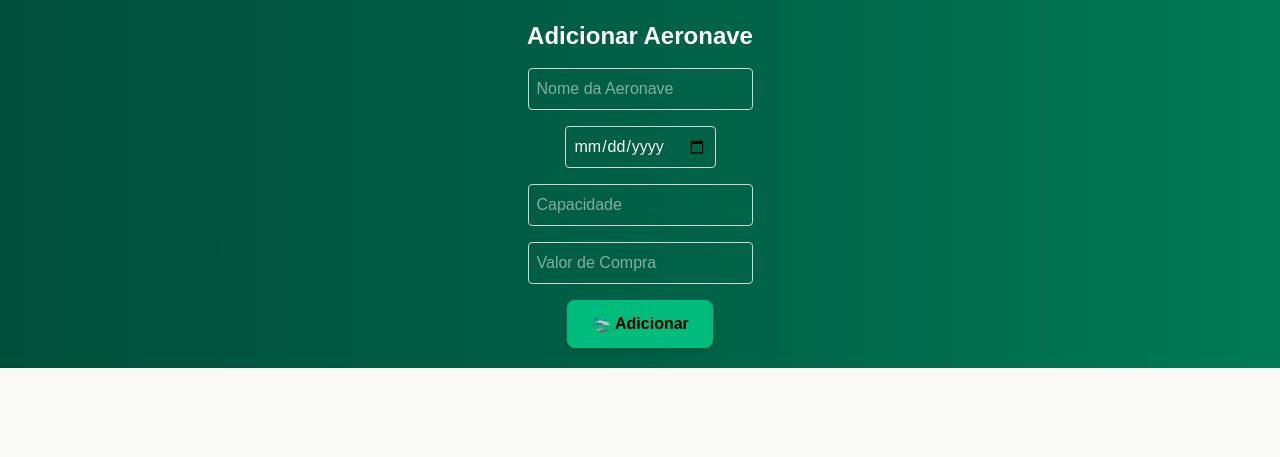
Scenario: Componente SignInAirplane › deve exibir mensagem de sucesso ao enviar formulário válido
Type "Boeing 737" into the field with placeholder "Nome da Aeronave" at [640, 89], box [528,68,752,110]
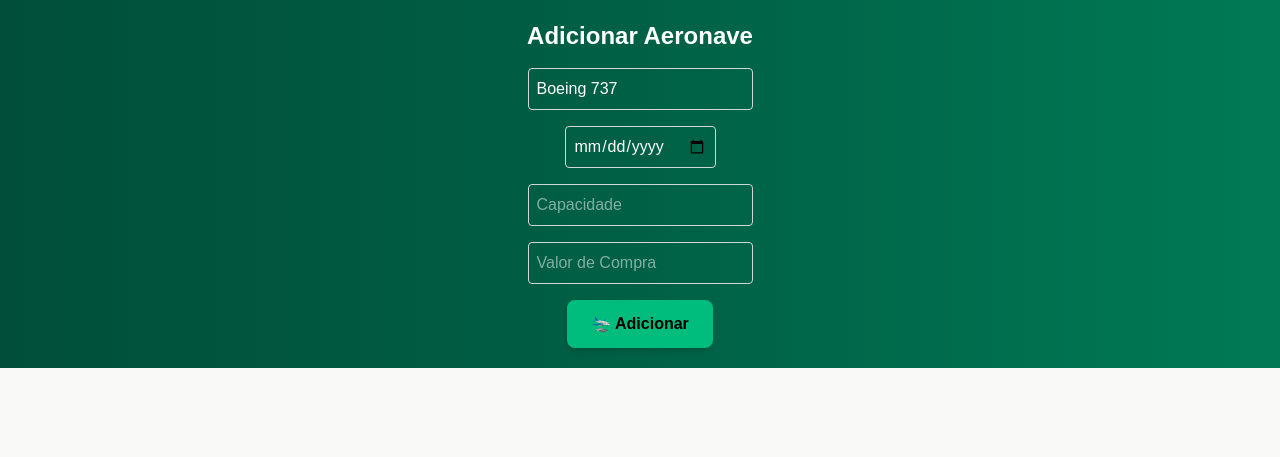
Type "2023-01-01" into the date field with placeholder "Modelo" at [640, 147], box [564,126,716,168]
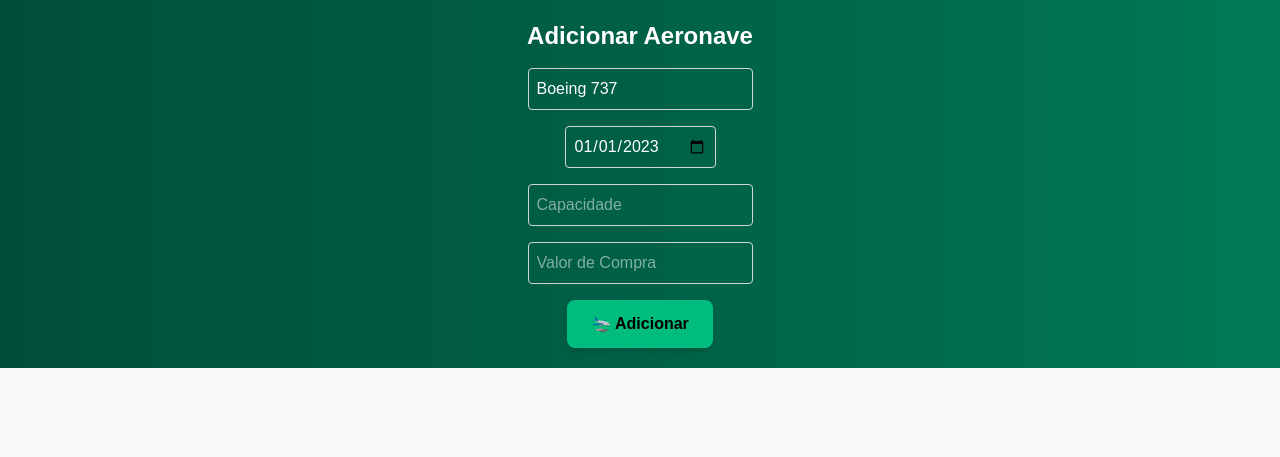
Type "200" into the number field with placeholder "Capacidade" at [640, 205], box [528,184,752,226]
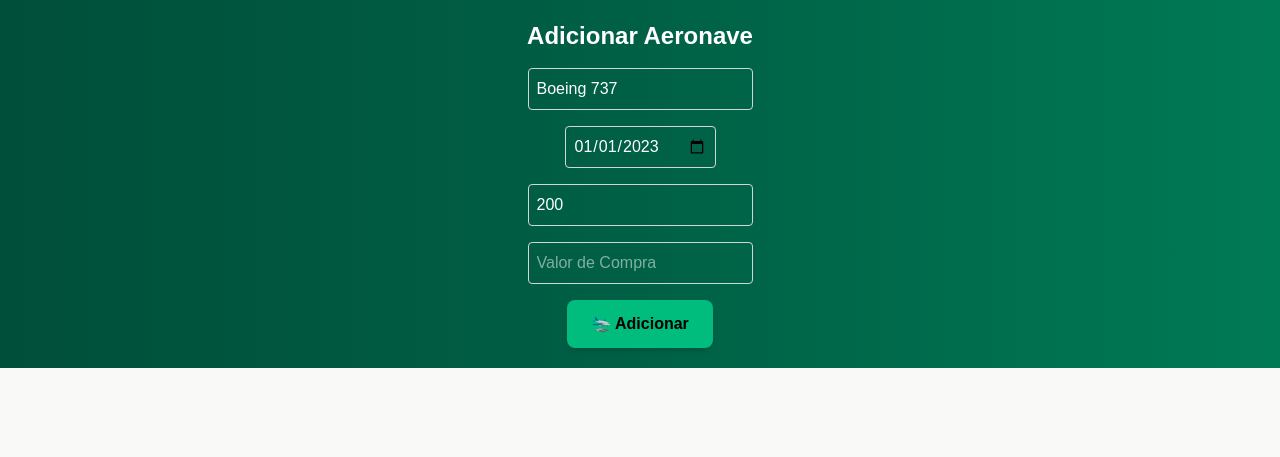
Type "50000000" into the number field with placeholder "Valor de Compra" at [640, 263], box [528,242,752,284]
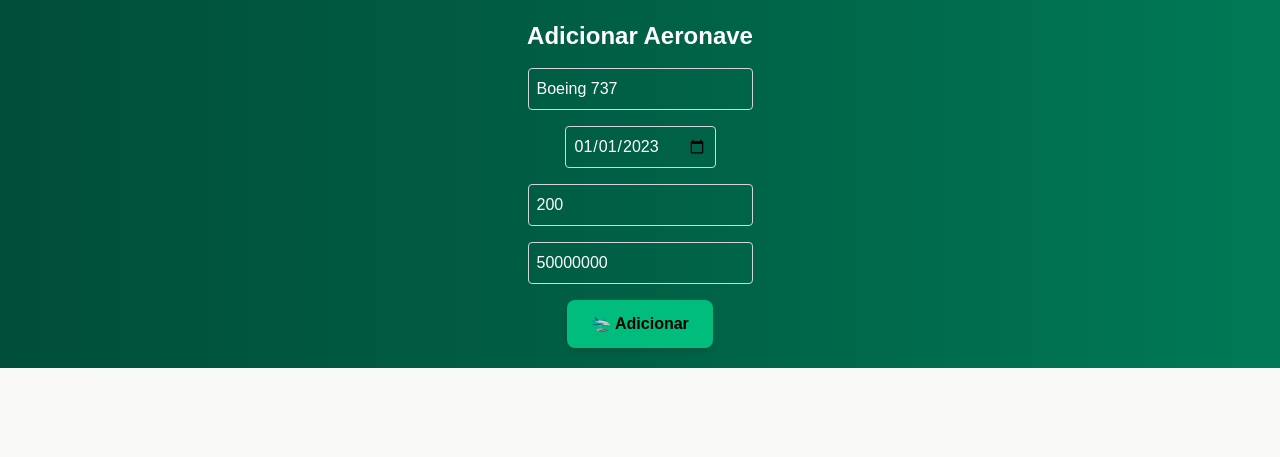
Click the button with test id "add-plane" at [640, 324], box [567,300,713,348]
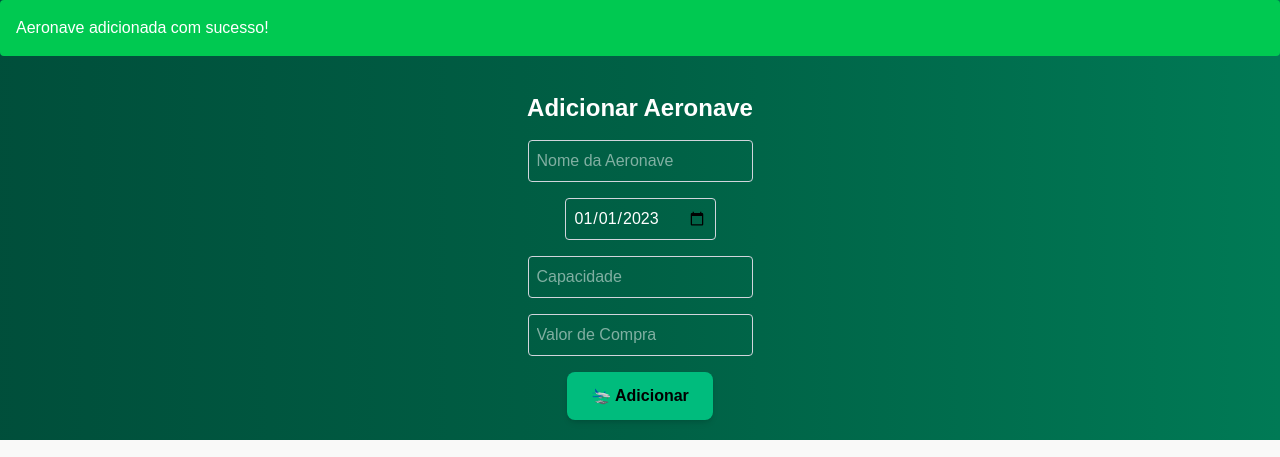
Result: the text "Aeronave adicionada com sucesso!" is shown at [0,0,1279,56]
